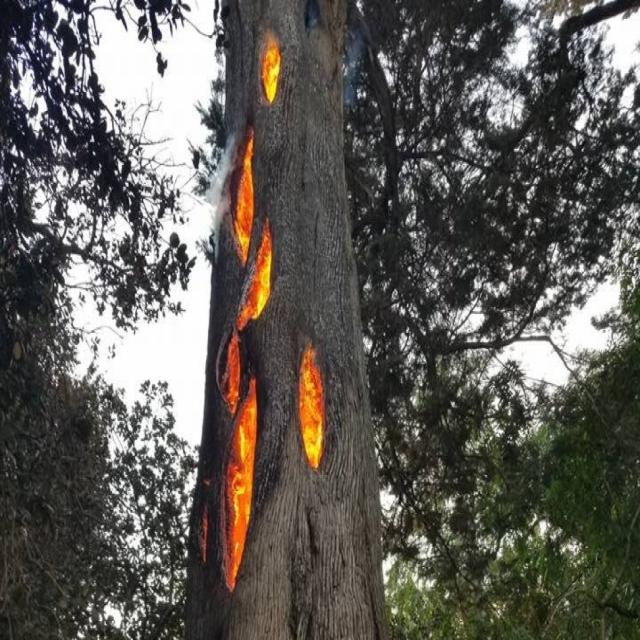Fire: (218, 374, 266, 590), (288, 318, 332, 474), (223, 114, 264, 262), (233, 218, 280, 339), (212, 314, 248, 414), (252, 21, 286, 109)
